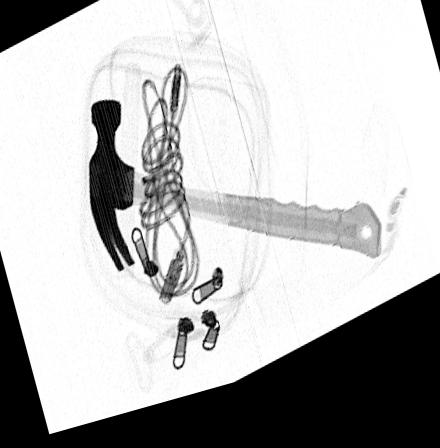Hammer: (88, 103, 382, 281)
